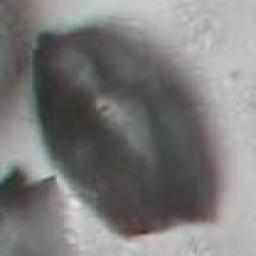crystals: (28, 19, 229, 248)
